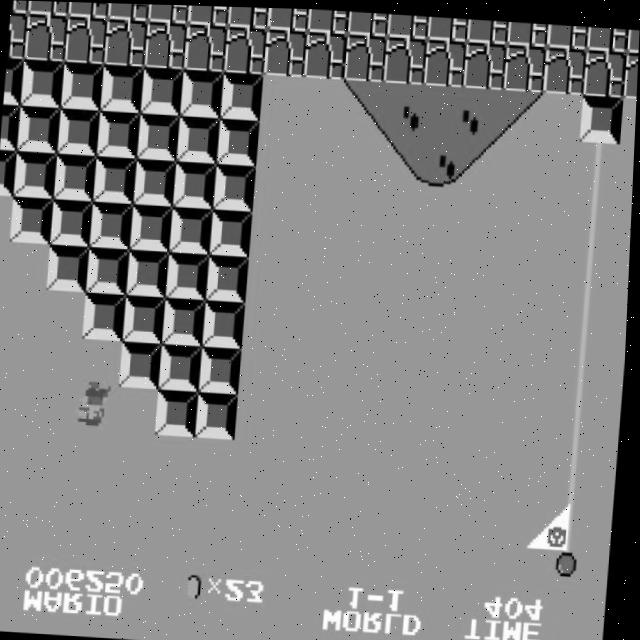11- little_mario: (74, 380, 120, 431)
17- undestructible_block: (24, 13, 69, 61), (63, 15, 108, 63), (103, 17, 148, 65), (143, 20, 188, 68), (183, 22, 228, 70), (223, 25, 268, 73), (263, 27, 308, 75), (303, 29, 348, 77), (343, 32, 388, 80), (383, 34, 428, 82), (423, 36, 468, 84), (463, 38, 508, 86), (503, 41, 547, 89), (543, 43, 587, 91), (583, 46, 627, 94), (346, 9, 389, 34), (426, 14, 469, 39), (466, 16, 509, 41), (506, 18, 549, 43), (546, 21, 589, 46), (586, 23, 629, 48), (306, 7, 349, 31), (386, 12, 429, 36), (7, 12, 28, 60), (266, 6, 309, 29), (226, 5, 269, 27), (186, 4, 229, 24), (146, 3, 189, 22), (623, 48, 639, 95), (106, 2, 149, 19), (66, 2, 109, 18), (27, 1, 69, 16), (627, 25, 640, 49), (10, 0, 28, 14)
7- goal_pole: (560, 365, 605, 413), (570, 228, 615, 276), (576, 137, 621, 185), (554, 457, 599, 504), (557, 411, 602, 458), (573, 184, 618, 231), (548, 548, 592, 596), (551, 502, 595, 550), (564, 319, 608, 367), (567, 274, 611, 321)
9- hard_block: (11, 195, 56, 243), (17, 105, 62, 153), (20, 59, 65, 107), (51, 198, 96, 246), (57, 106, 102, 154), (60, 61, 105, 109), (84, 292, 129, 340), (91, 200, 136, 248), (97, 109, 142, 157), (100, 63, 145, 111), (121, 340, 166, 388), (124, 294, 169, 342), (131, 203, 176, 251), (137, 111, 182, 159), (140, 66, 185, 114), (161, 342, 206, 390), (164, 296, 209, 344), (177, 114, 222, 162), (180, 68, 225, 116), (201, 344, 246, 392), (204, 299, 249, 347), (210, 207, 255, 255), (217, 116, 262, 164), (220, 71, 265, 119), (14, 150, 59, 197), (47, 244, 92, 291), (54, 153, 99, 200), (87, 247, 132, 294), (94, 155, 139, 202), (127, 249, 172, 296), (134, 158, 179, 205), (158, 388, 203, 435), (167, 252, 212, 299), (174, 160, 219, 207), (198, 390, 243, 437), (207, 254, 252, 301), (214, 162, 259, 209), (171, 205, 215, 253), (580, 92, 624, 140), (3, 58, 24, 106), (0, 104, 21, 150), (0, 150, 18, 196)
